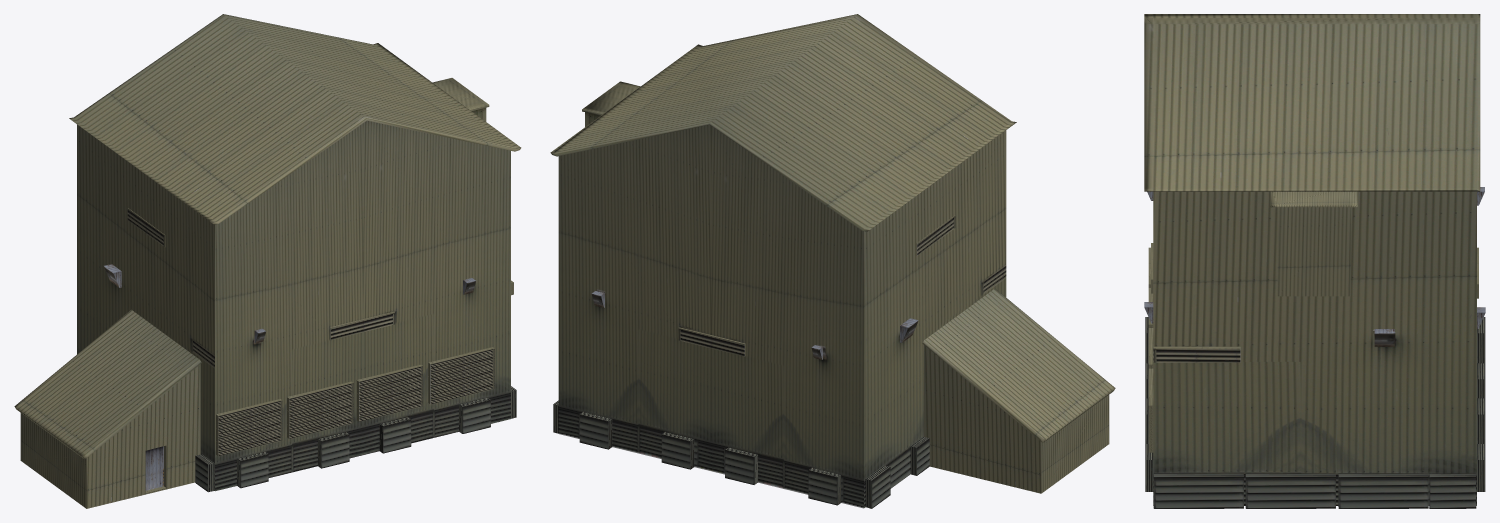
File: industrial24.obj
3 views of the same model, side by side, from view 1: azimuth 30°, elevation 25°; view 2: azimuth 150°, elevation 25°; view 3: azimuth 270°, elevation 25° (orthographic). The views are drawn at different scales.
Visible parts, largest first — view 1: industrial24; view 2: industrial24; view 3: industrial24.
Part boxes in pixels (x1=…): industrial24: x1=14, y1=14, x2=521, y2=508; industrial24: x1=550, y1=14, x2=1115, y2=508; industrial24: x1=1144, y1=14, x2=1485, y2=508.
Size of the model in its own units: 906 by 664 by 516.
1 material, 1 textured.
